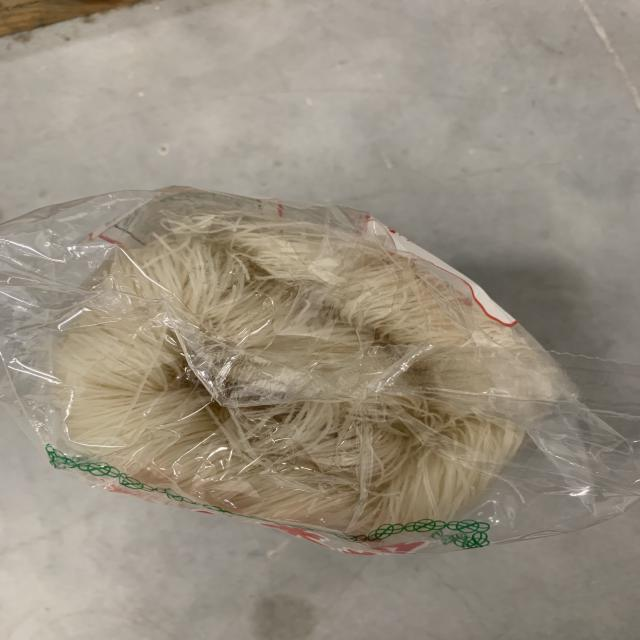object_name: (57, 216, 529, 535)
